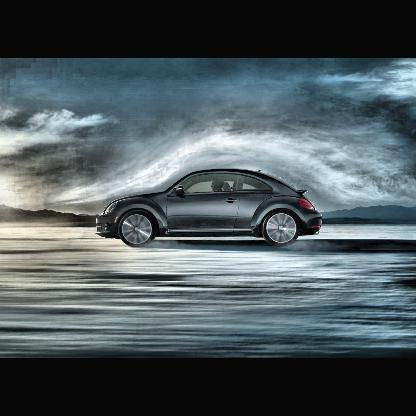Volkswagen Beetle Hatchback 2012: (97, 171, 323, 248)
